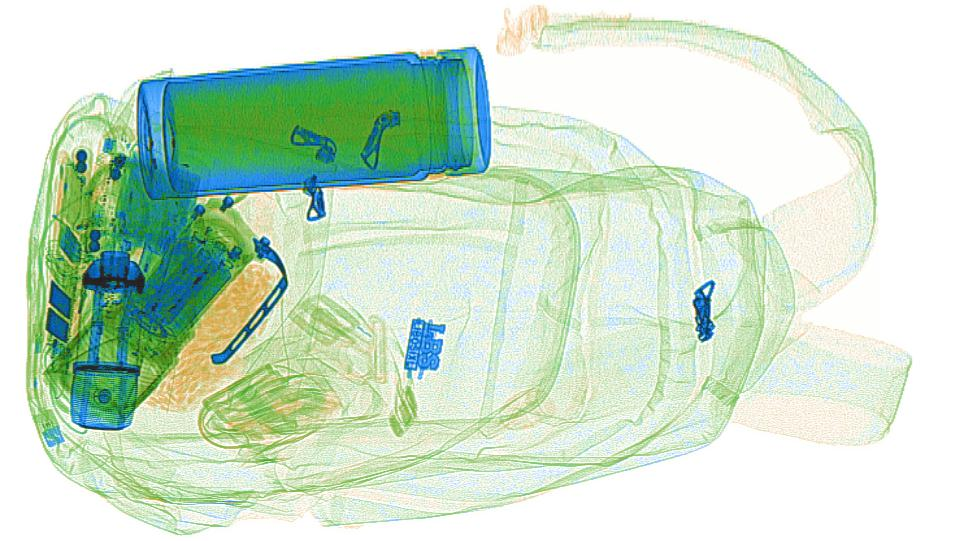battery: (118, 230, 236, 342)
